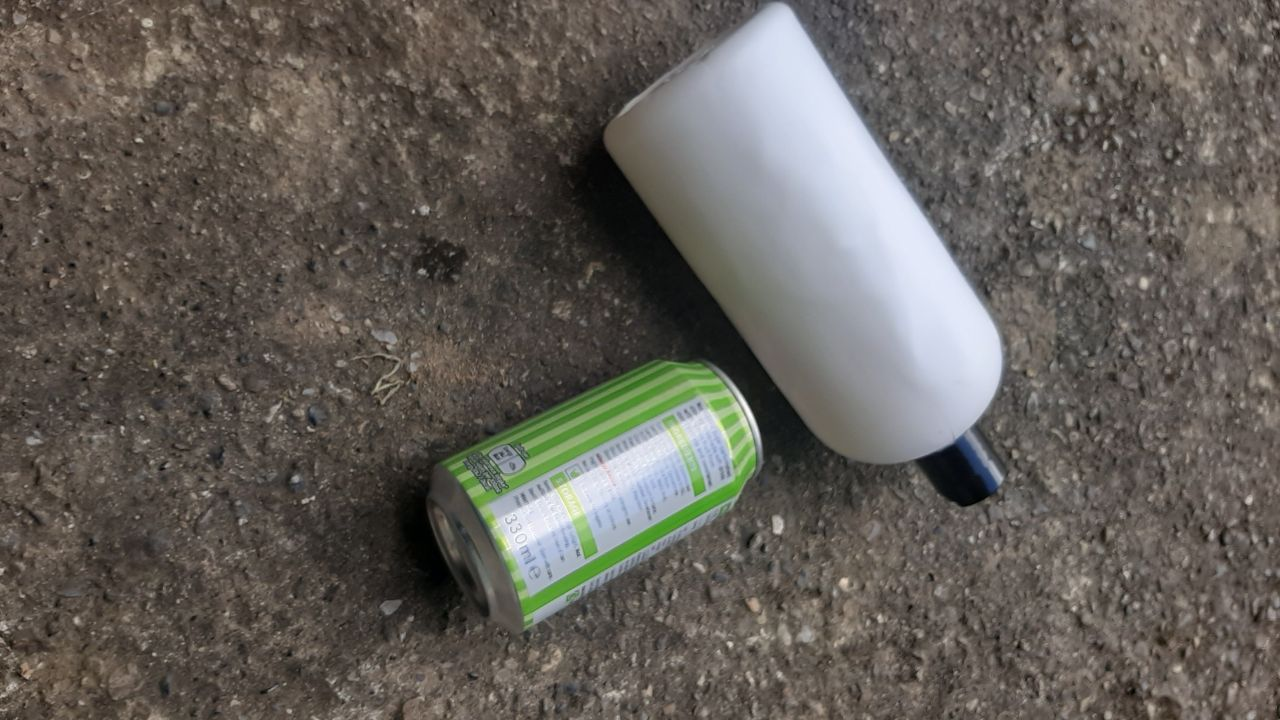Can: (412, 342, 775, 648)
